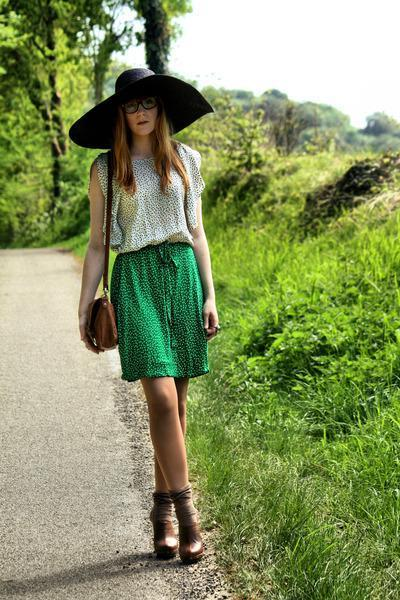short sleeve shirt: (95, 142, 211, 259)
skirt: (112, 243, 212, 382)
